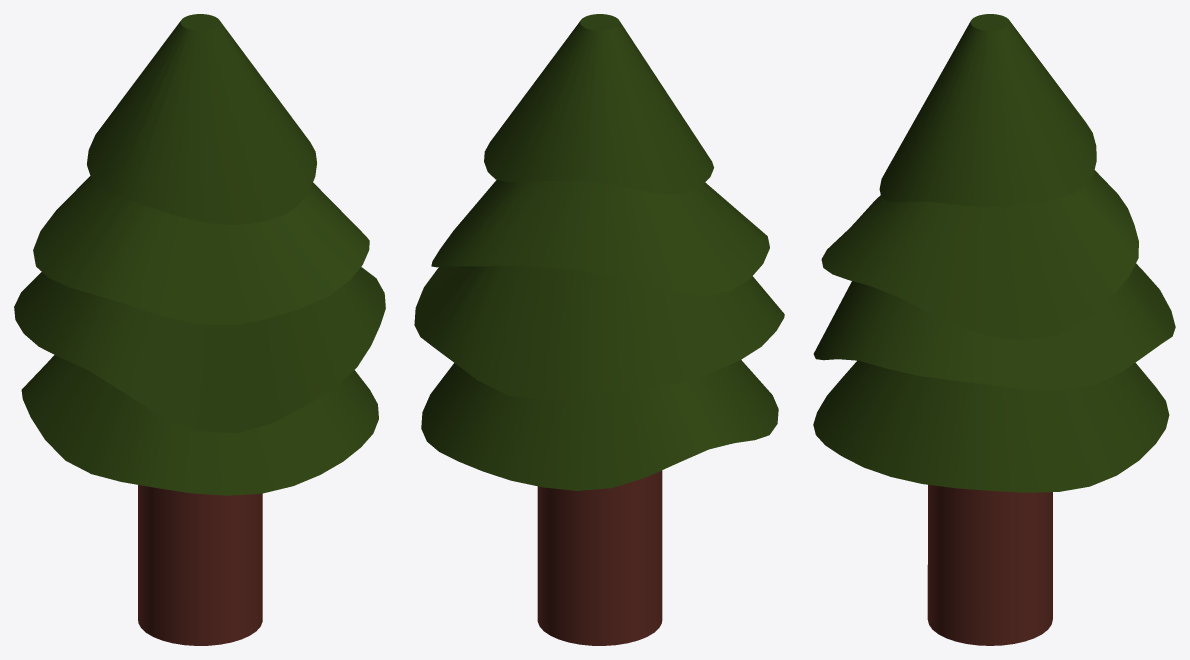
File: tree.001.fbx
The picture shows the model from 3 angles, left to right: view 1: azimuth 30°, elevation 25°; view 2: azimuth 150°, elevation 25°; view 3: azimuth 270°, elevation 25°; orthographic projection.
Visible parts, largest first — view 1: tree.001; view 2: tree.001; view 3: tree.001.
Part boxes in pixels (left/top/right/bottom): tree.001: left=14, top=14, right=385, bottom=645; tree.001: left=414, top=14, right=784, bottom=645; tree.001: left=813, top=14, right=1175, bottom=645.
Size of the model in its own units: 450 by 796 by 438.
